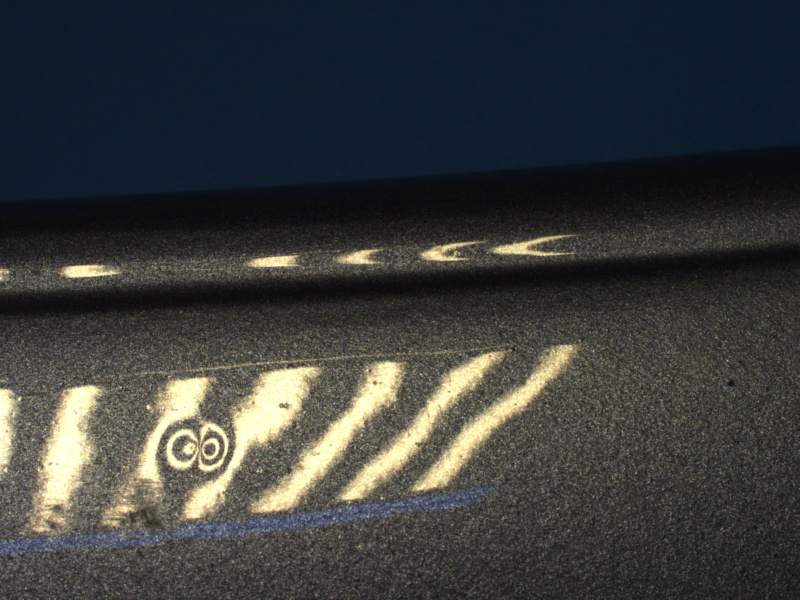bad: (152, 407, 245, 491)
